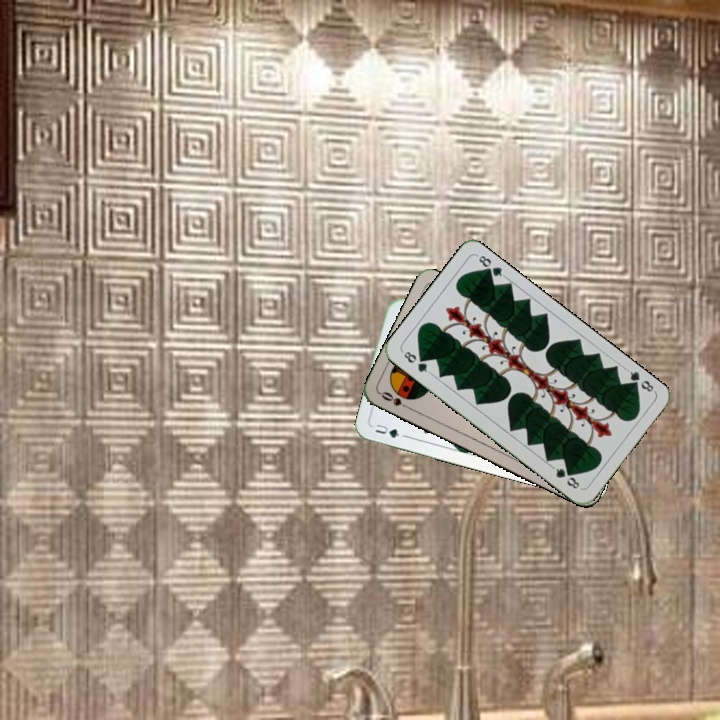G8: (623, 365, 657, 395), (398, 347, 433, 376)
GU: (371, 419, 409, 441)
SO: (377, 387, 414, 413)
